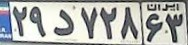character: (49, 6, 78, 39), (120, 4, 140, 42), (99, 4, 119, 41), (79, 4, 99, 39), (28, 4, 47, 39), (165, 11, 185, 43), (11, 3, 29, 38), (144, 12, 164, 43)
